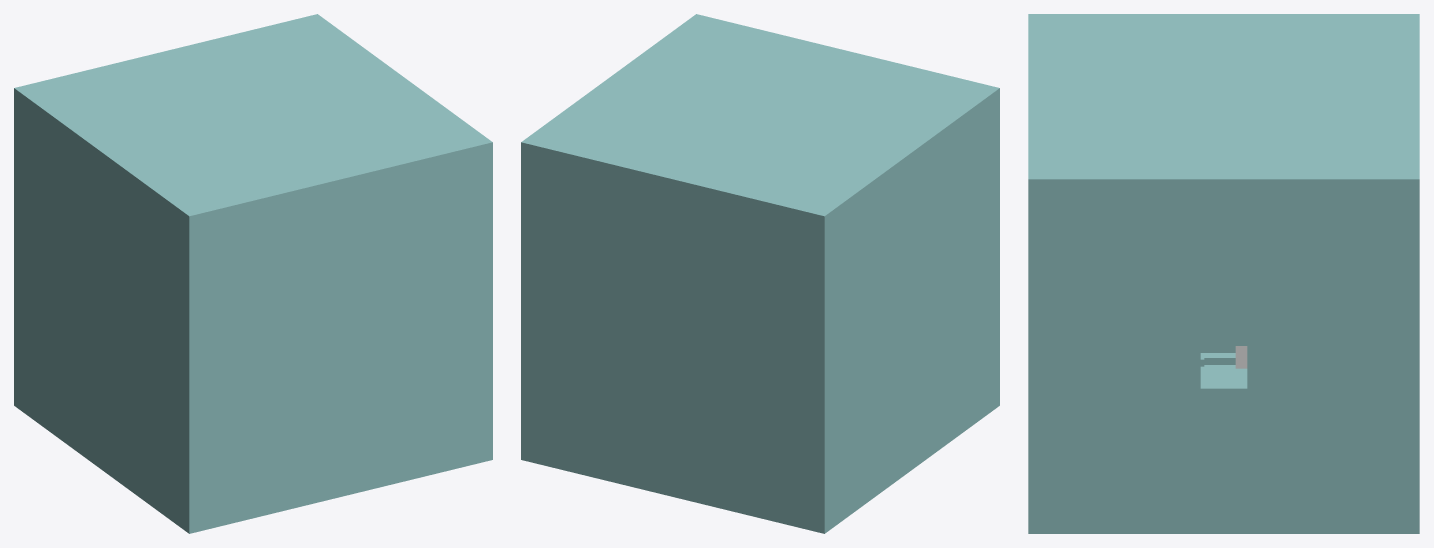
Rendered from Mine4-4_ORIG.obj.
3 views of the same model, side by side, from view 1: azimuth 30°, elevation 25°; view 2: azimuth 150°, elevation 25°; view 3: azimuth 270°, elevation 25° (orthographic). The views are drawn at different scales.
Bounding box in the file's own units: 10 × 10 × 10.
